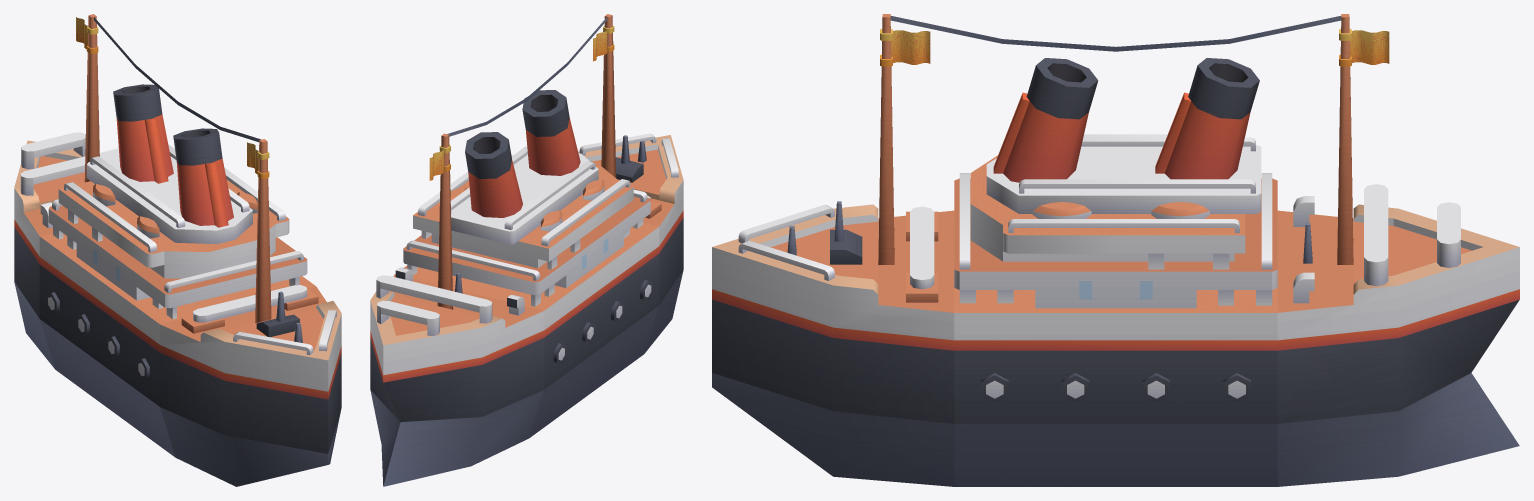
File: ship-ocean-liner-small.glb
3 views of the same model, side by side, from view 1: azimuth 30°, elevation 25°; view 2: azimuth 150°, elevation 25°; view 3: azimuth 270°, elevation 25° (orthographic). The views are drawn at different scales.
Parts seen in each view (by area): view 1: ship-ocean-liner-small; view 2: ship-ocean-liner-small; view 3: ship-ocean-liner-small.
Boxes of the visible parts, x1,y1,x2,y2 form: ship-ocean-liner-small: [14, 14, 341, 486]; ship-ocean-liner-small: [370, 14, 683, 486]; ship-ocean-liner-small: [712, 14, 1519, 486].
Size of the model in its own units: 4.76 by 8.93 by 15.2.
1 material, 1 textured.
